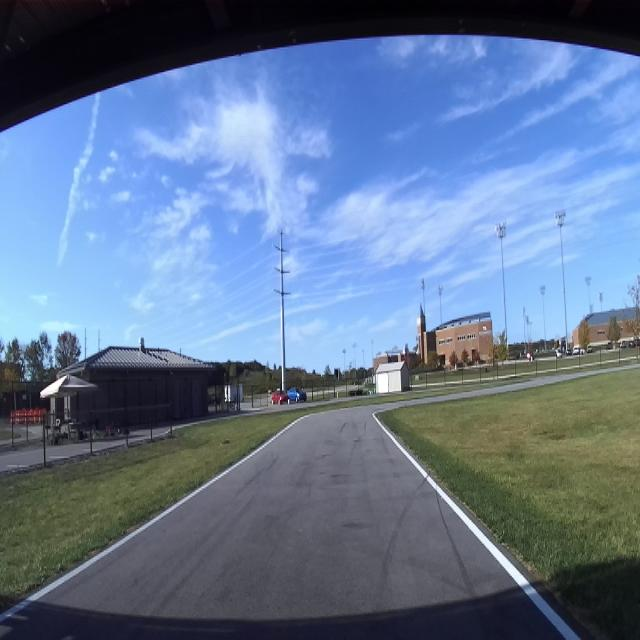white-line: (0, 413, 313, 621), (373, 412, 578, 639)
